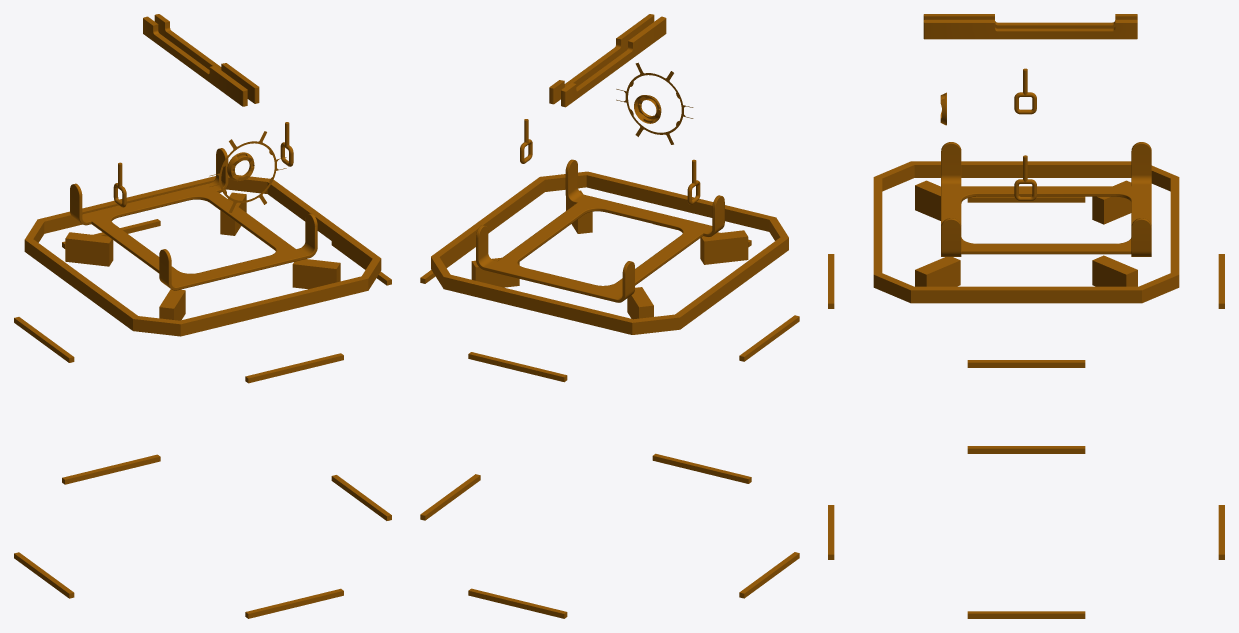
Rendered from engine3.fbx.
3 views of the same model, side by side, from view 1: azimuth 30°, elevation 25°; view 2: azimuth 150°, elevation 25°; view 3: azimuth 270°, elevation 25° (orthographic). The views are drawn at different scales.
Visible parts, largest first — view 1: engine3; view 2: engine3; view 3: engine3.
Part boxes in pixels (box(x1,y1,x2,y2)): engine3: box(14, 14, 391, 618); engine3: box(420, 14, 799, 618); engine3: box(828, 14, 1224, 618).
Bounding box in the file's own units: 82.35 × 118 × 82.35.
